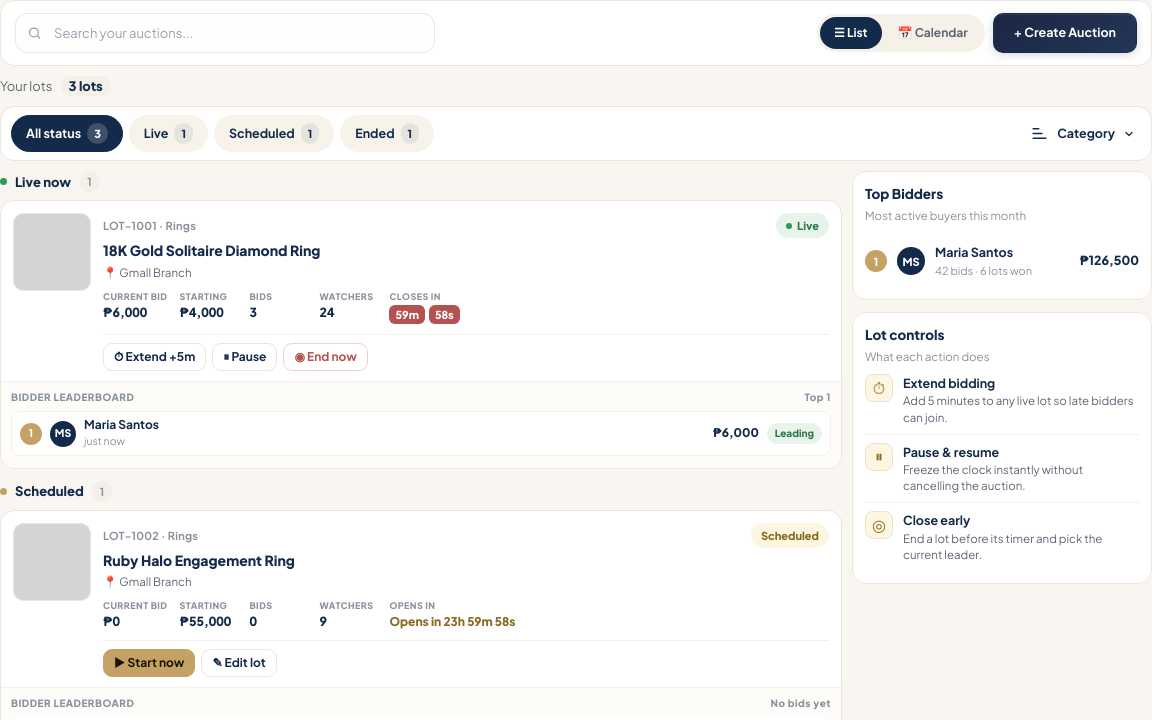
Test: search works
Expected: the text "18K Gold Solitaire Diamond Ring" is shown, left=103, top=241, right=320, bottom=259
Type "Ruby" into the field with placeholder "Search your auctions..." at {"x": 225, "y": 33}, box left=15, top=13, right=435, bottom=53
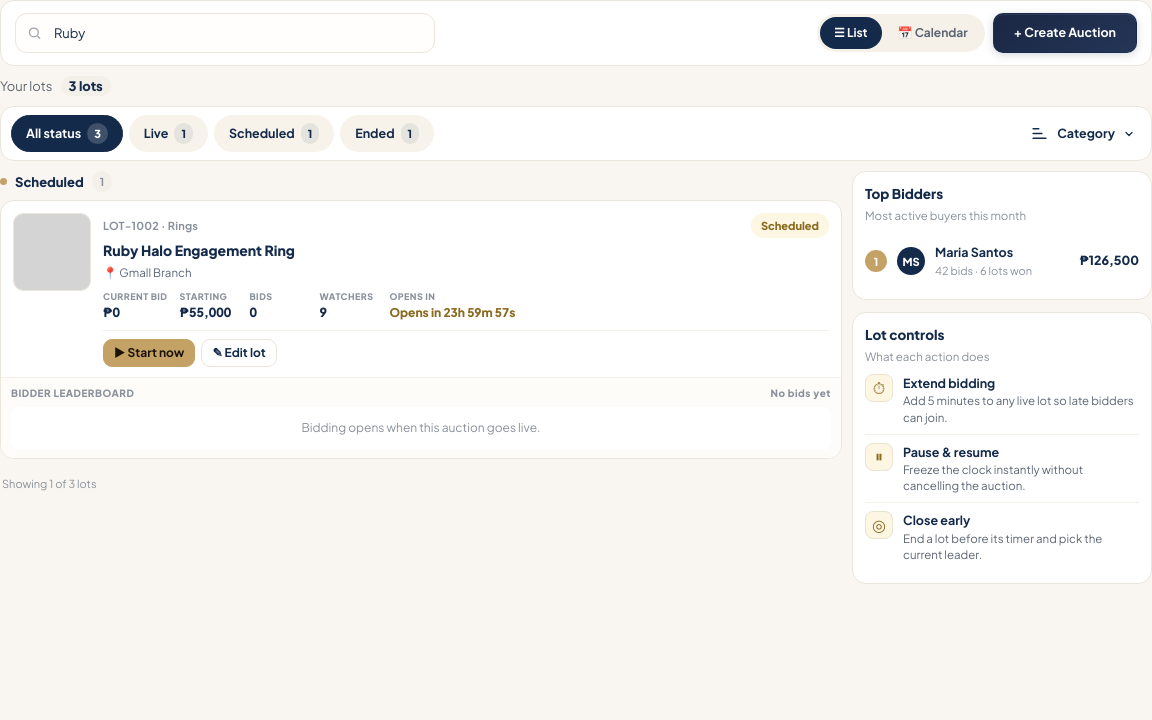
Expected: the text "Ruby Halo Engagement Ring" is shown, left=103, top=241, right=295, bottom=259
Expected: the text "18K Gold Solitaire Diamond Ring" is gone
